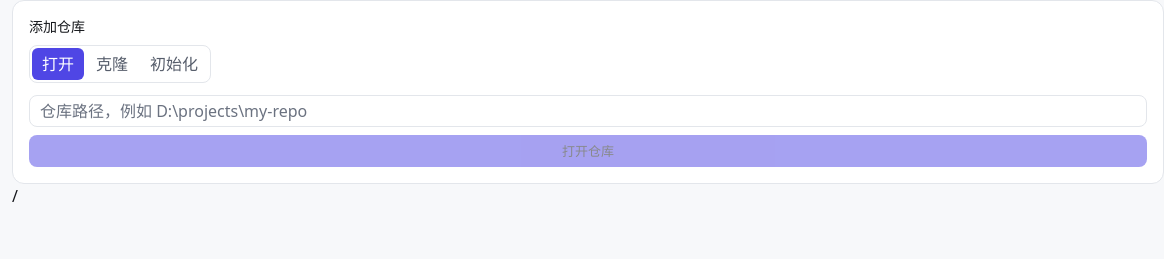
Scenario: AddRepoCard — 模式切换 › 默认是"打开"，三个模式各有自己的表单
Expected: the element with test id "add-repo-open" is shown, left=29, top=95, right=1147, bottom=167
What coordinates should you click on to do the following:
click the radio button labelled "克隆"
I would click on:
 (112, 64)
Its box is left=86, top=48, right=138, bottom=80.
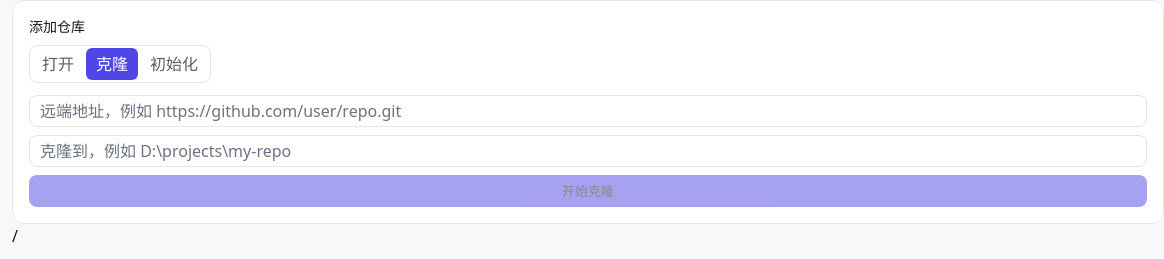
Expected: the element with test id "add-repo-clone" is shown, left=29, top=95, right=1147, bottom=207
Expected: the element with test id "add-repo-open" is gone
What coordinates should you click on to do the following:
click the radio button labelled "初始化"
I would click on:
 (174, 64)
Its box is left=140, top=48, right=208, bottom=80.
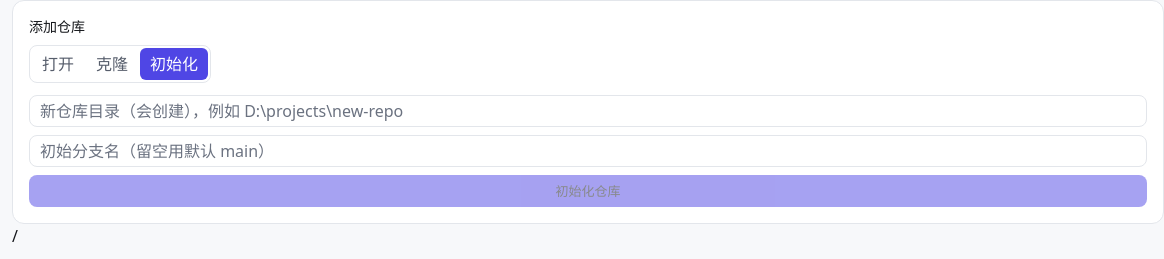
Expected: the element with test id "add-repo-init" is shown, left=29, top=95, right=1147, bottom=207
